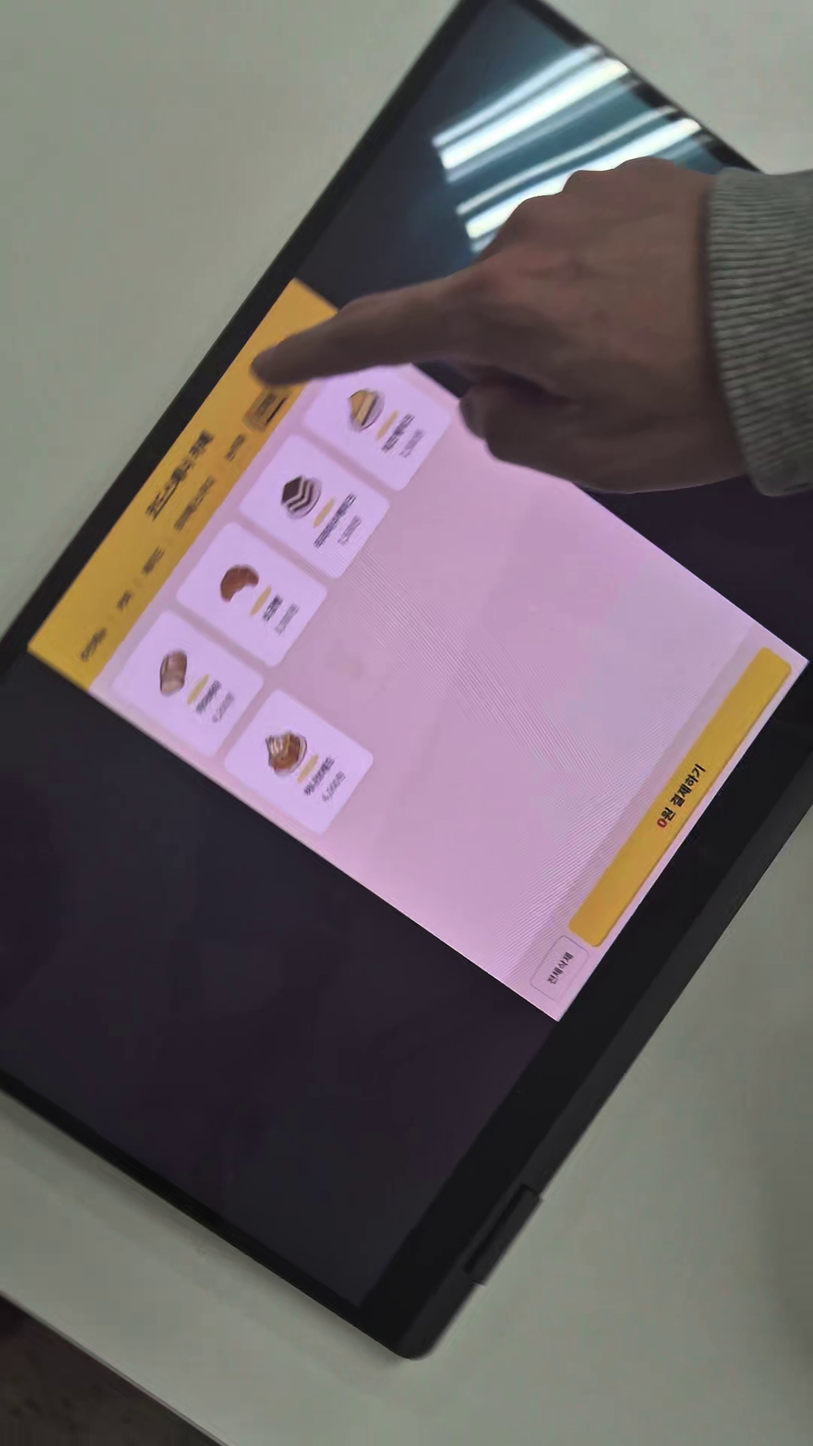action_button: (565, 644, 795, 951), (528, 934, 591, 1003)
menu_back: (109, 607, 268, 762), (172, 518, 332, 671), (221, 686, 379, 839), (235, 430, 393, 582), (299, 345, 455, 495)
